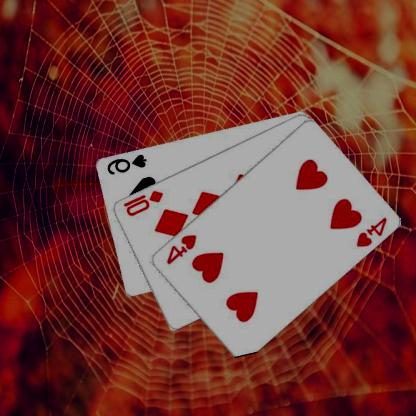10D: (122, 188, 166, 218)
4H: (355, 214, 390, 249), (165, 232, 199, 266)
6S: (105, 151, 150, 176)
